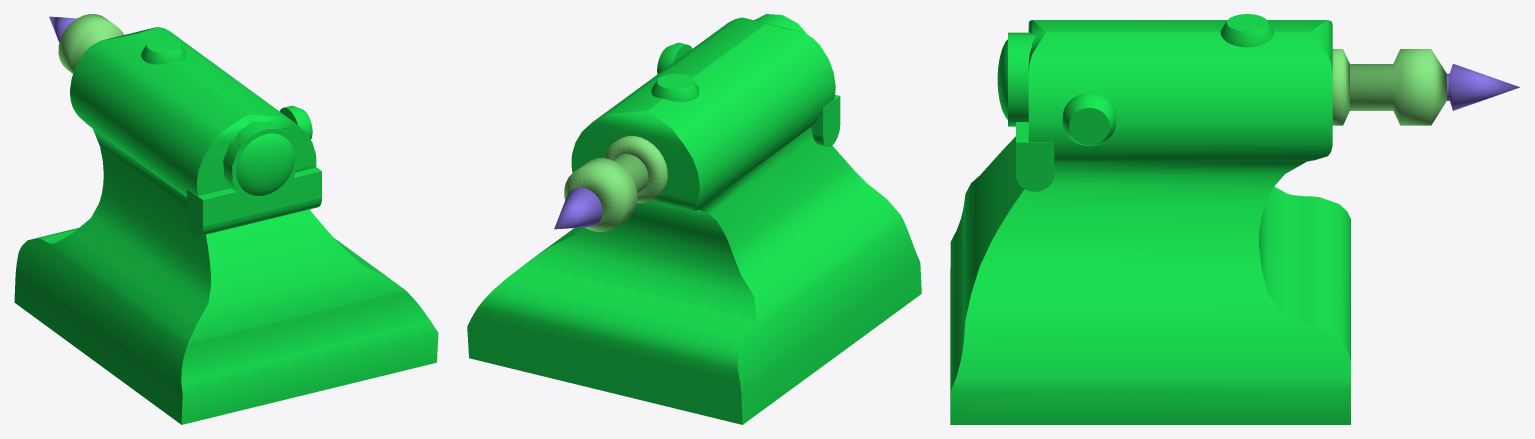
The model's file is babka.fbx.
The picture shows the model from 3 angles, left to right: view 1: azimuth 30°, elevation 25°; view 2: azimuth 150°, elevation 25°; view 3: azimuth 270°, elevation 25°; orthographic projection. The views are drawn at different scales.
Parts seen in each view (by area): view 1: Moving, Moving2; view 2: Moving, Moving2, Moving2.001, Nozzle1; view 3: Moving, Moving2, Nozzle1, Moving2.001.
Part boxes in pixels (x1=…): Moving: x1=14, y1=27, x2=438, y2=424; Moving2: x1=58, y1=14, x2=123, y2=73; Moving: x1=467, y1=14, x2=921, y2=424; Moving2: x1=564, y1=154, x2=648, y2=231; Moving2.001: x1=604, y1=136, x2=667, y2=203; Nozzle1: x1=554, y1=187, x2=602, y2=229; Moving: x1=950, y1=14, x2=1350, y2=424; Moving2: x1=1350, y1=49, x2=1446, y2=125; Nozzle1: x1=1447, y1=63, x2=1519, y2=110; Moving2.001: x1=1332, y1=49, x2=1349, y2=125.
Size of the model in its own units: 39.38 by 38.5 by 63.14.
